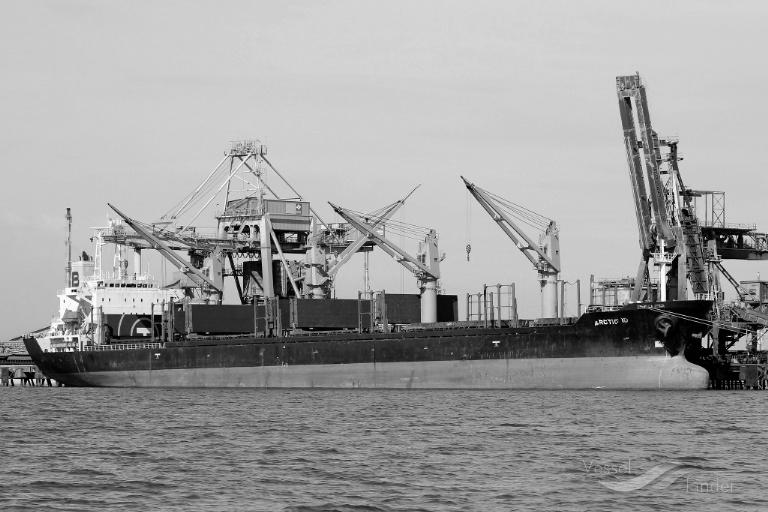OCR: (587, 316, 633, 331)
